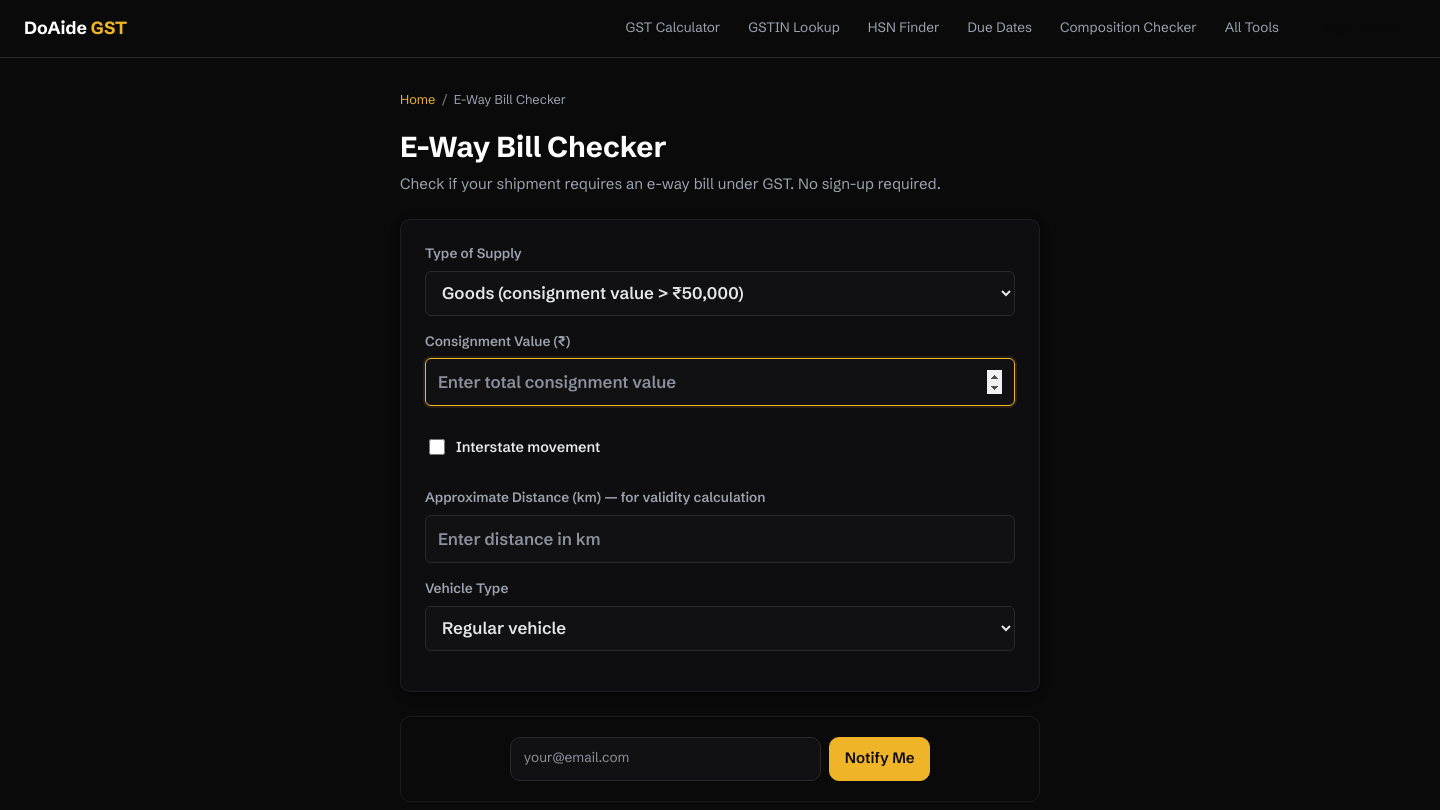
Scenario: EwayBillPage › shows required for value above 50000
In the number field with placeholder "Enter total consignment value": (720, 382) 425,358 -> 1015,406, type "75000"
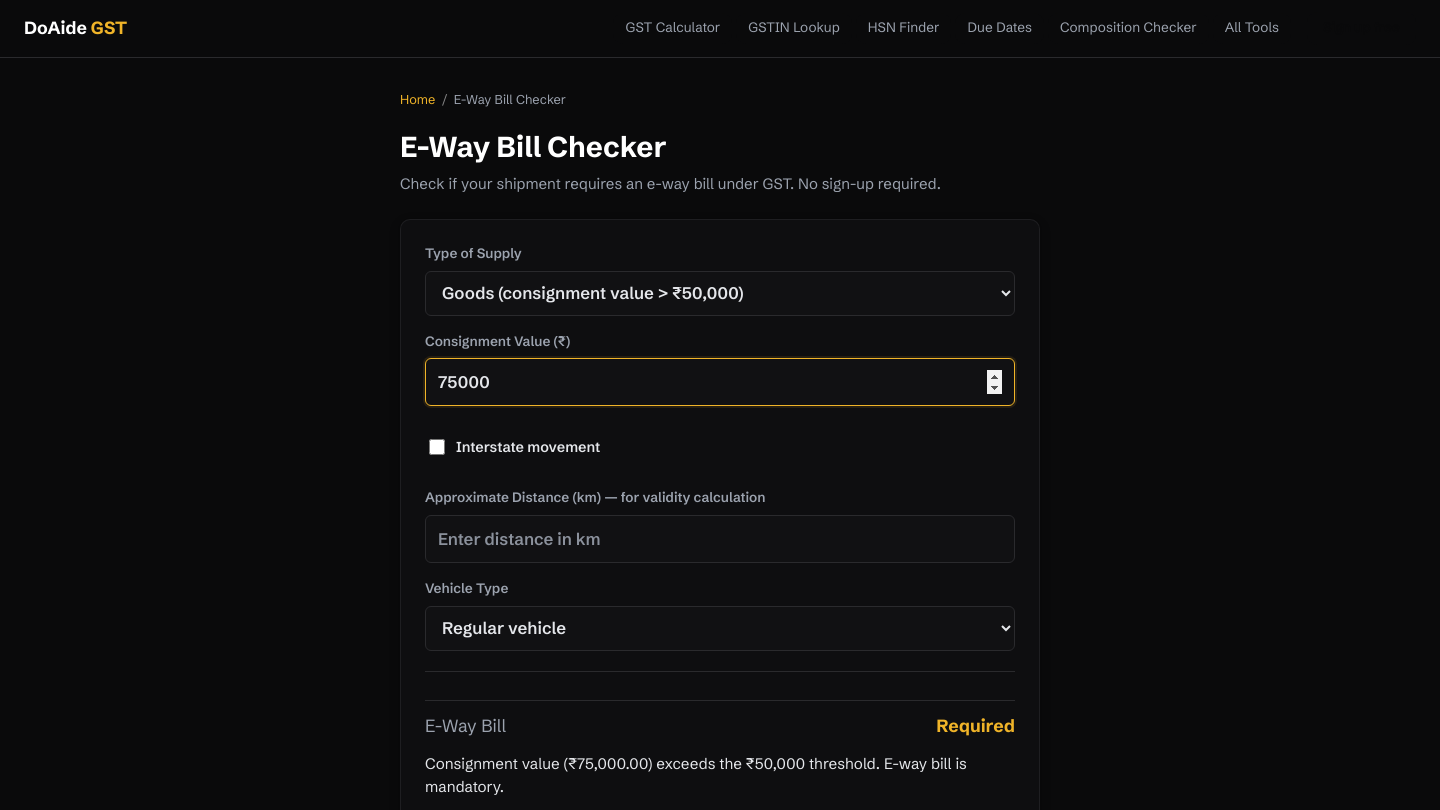
Expected: the text "Required" is shown, 936,713 -> 1015,739
